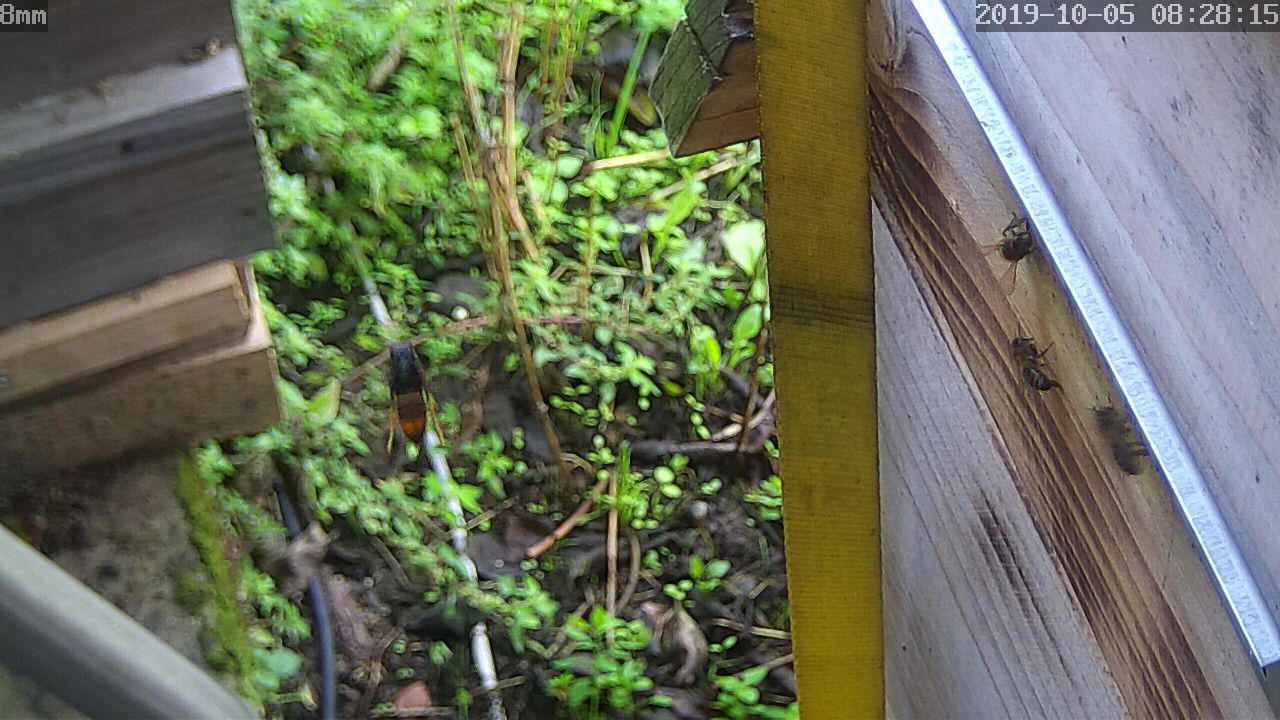bee: (999, 321, 1058, 396), (1088, 402, 1144, 474), (986, 206, 1045, 271)
hornet: (374, 329, 448, 459)
